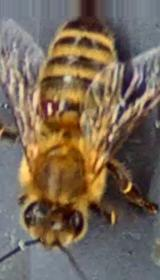varroa_mite: (28, 90, 64, 126)
